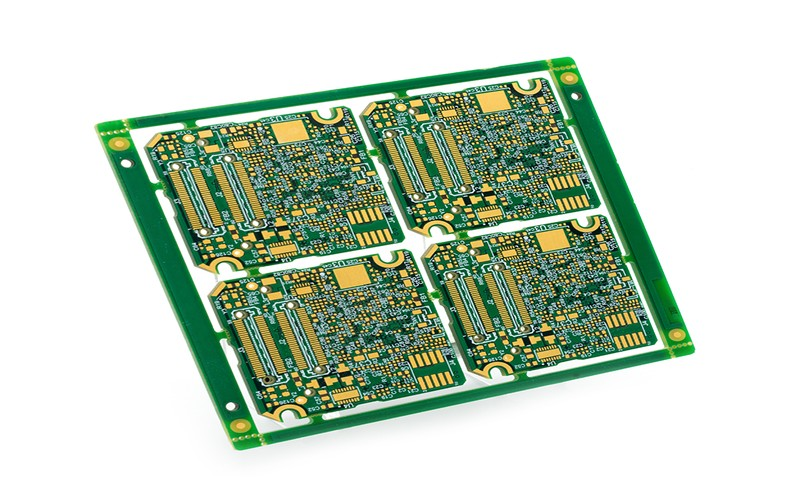Cirtuit-Board: (85, 41, 703, 453)
